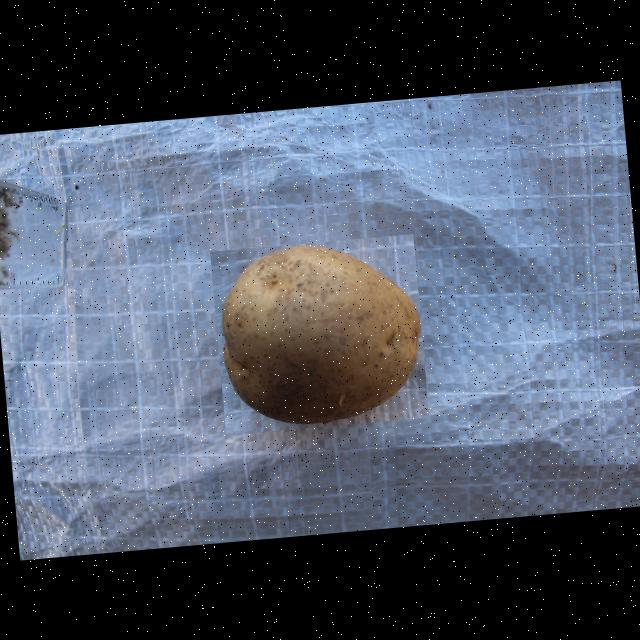Diseased-fungal potato: (210, 233, 428, 434)
